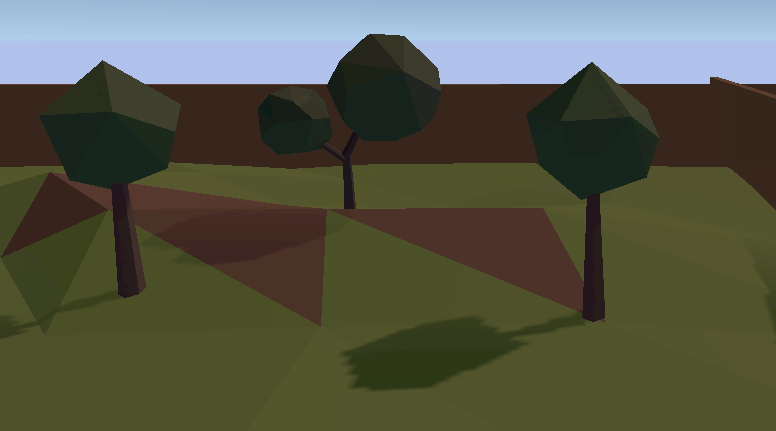tree: (526, 60, 663, 334), (42, 61, 184, 295), (260, 34, 441, 210)
